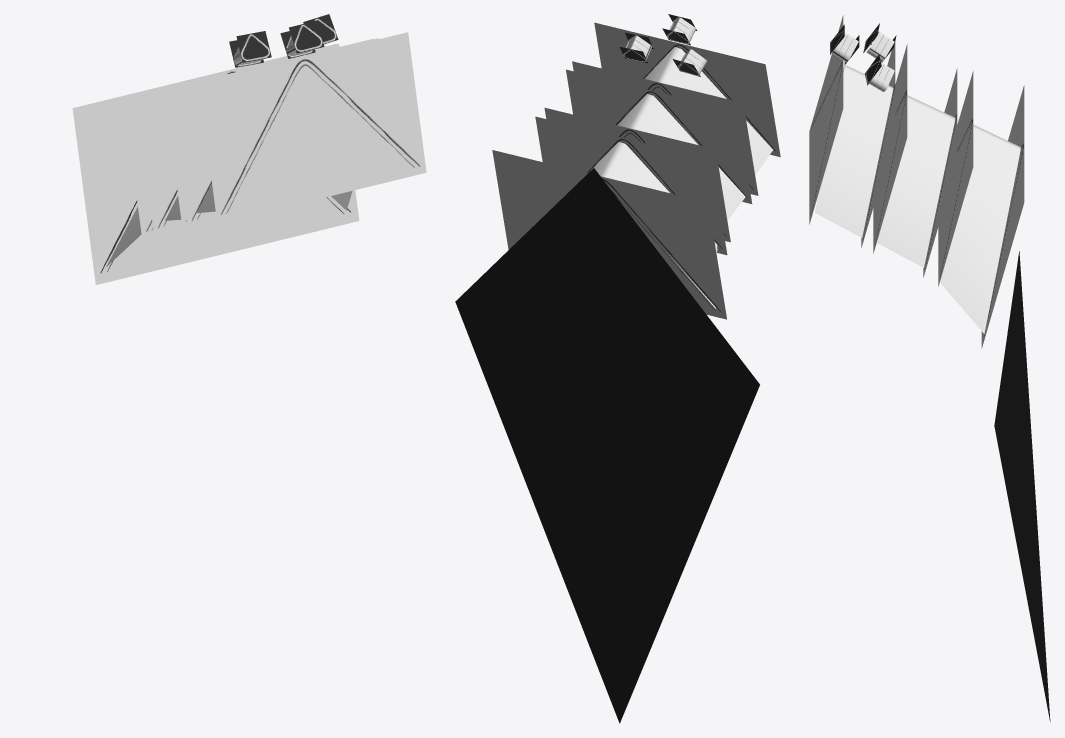
File: rdc_2.dae
The picture shows the model from 3 angles, left to right: view 1: azimuth 30°, elevation 25°; view 2: azimuth 150°, elevation 25°; view 3: azimuth 270°, elevation 25°; orthographic projection. The views are drawn at different scales.
Parts seen in each view (by area): view 1: topgrande (×6), megapattern_top (×2), banchi; view 2: nero, topgrande (×6), banchi (×3); view 3: banchi (×3), topgrande (×6), nero.
Part boxes in pixels (bbox=[...]): topgrande (×6): bbox=[72, 32, 426, 284]; megapattern_top (×2): bbox=[236, 21, 324, 62]; banchi: bbox=[106, 191, 352, 266]; nero: bbox=[455, 168, 759, 723]; topgrande (×6): bbox=[492, 22, 780, 319]; banchi (×3): bbox=[588, 47, 772, 308]; banchi (×3): bbox=[815, 65, 1020, 333]; topgrande (×6): bbox=[809, 15, 1024, 348]; nero: bbox=[994, 251, 1050, 721].
Size of the model in its own units: 525 by 1003 by 308.
6 materials, 4 textured.
